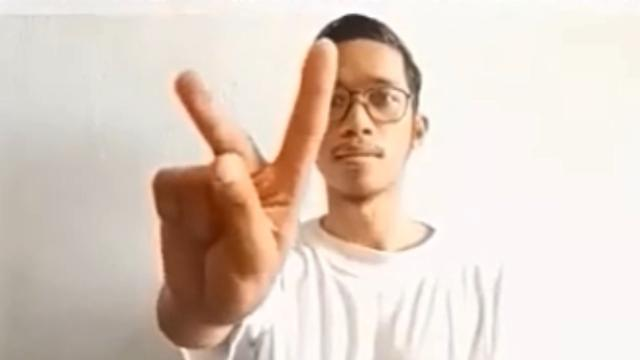K: (153, 34, 343, 326)
